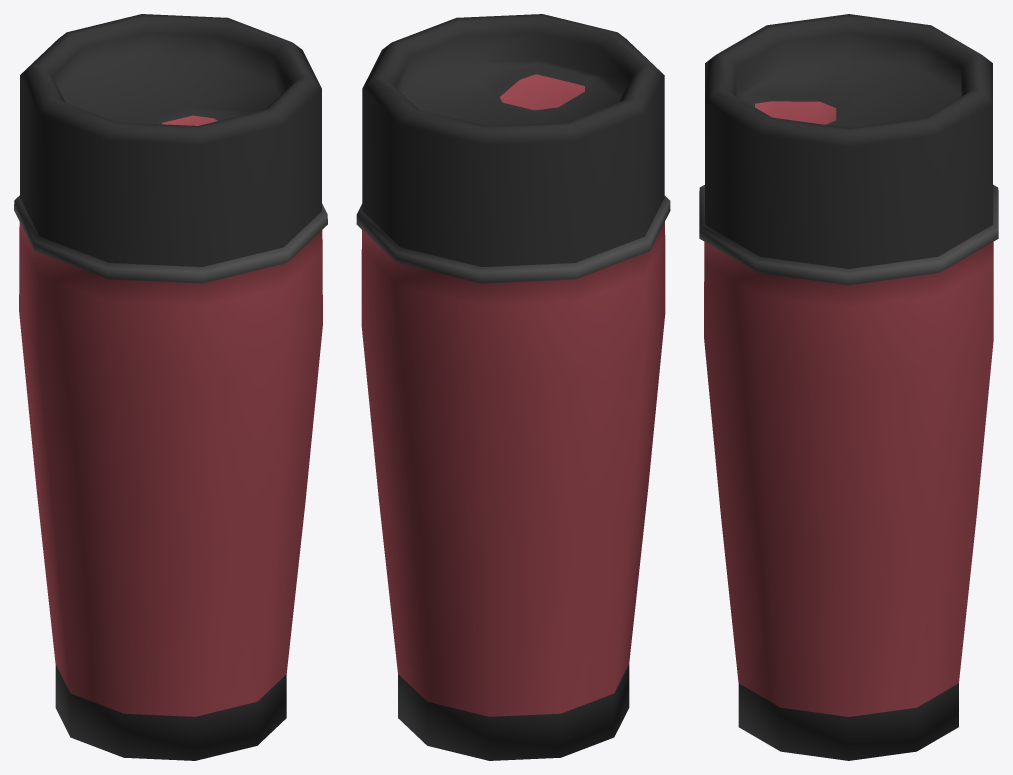
The model's file is flask.glb.
3 views of the same model, side by side, from view 1: azimuth 30°, elevation 25°; view 2: azimuth 150°, elevation 25°; view 3: azimuth 270°, elevation 25° (orthographic).
Visible parts, largest first — view 1: pCylinder19; view 2: pCylinder19; view 3: pCylinder19.
Part boxes in pixels (x1,y1,x2,y2): pCylinder19: [14, 14, 327, 760]; pCylinder19: [356, 14, 670, 760]; pCylinder19: [699, 14, 998, 760].
Size of the model in its own units: 0.1713 by 0.3836 by 0.1629.
Materials: 1 (1 with a texture image).
